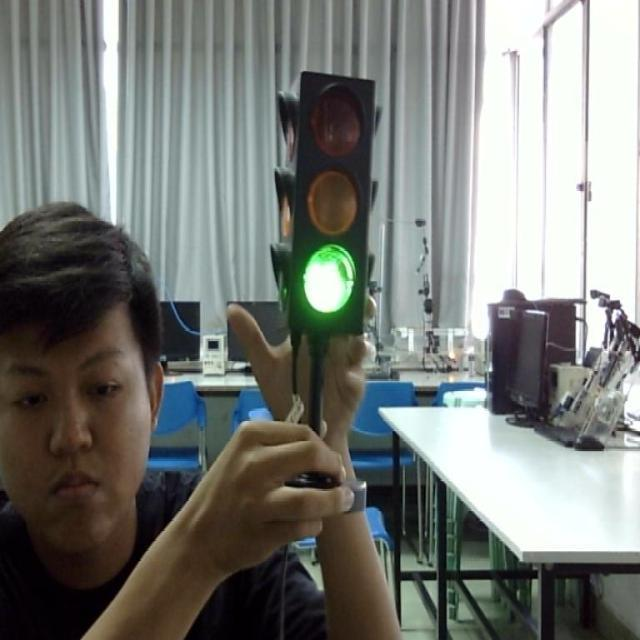green_light: (287, 69, 373, 332)
